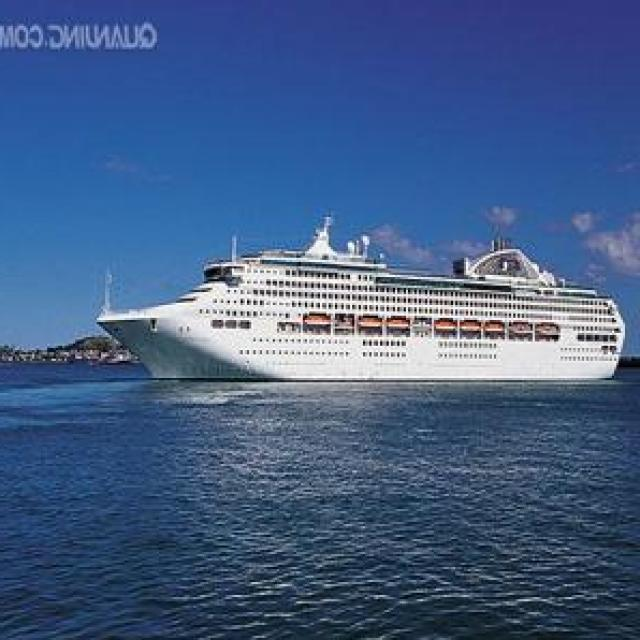passenger ship: (101, 236, 635, 382)
